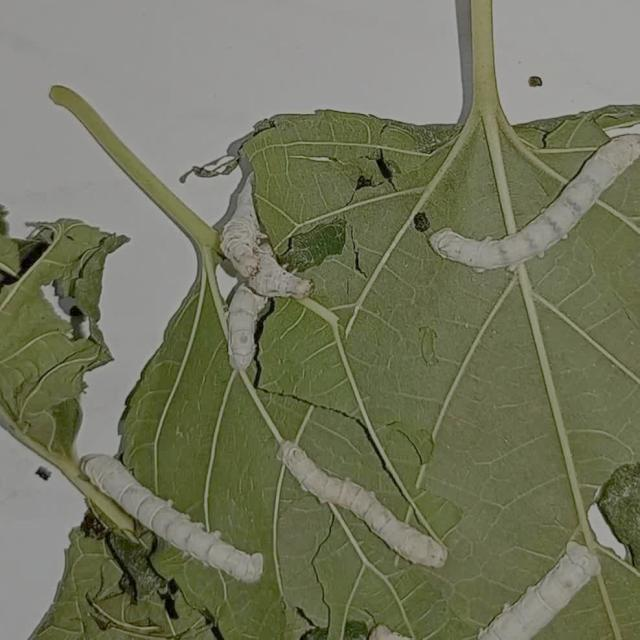Healthy: (420, 129, 640, 280), (71, 436, 266, 604), (276, 422, 453, 578)
